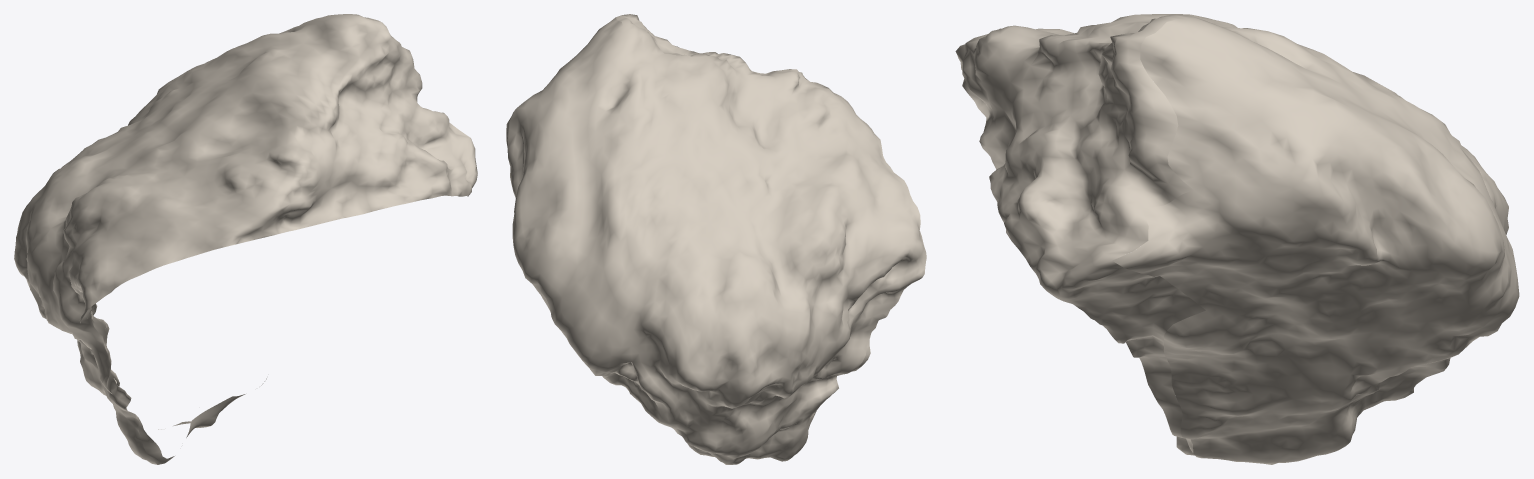
The model's file is gray-big-rock_cand02.glb.
The picture shows the model from 3 angles, left to right: view 1: azimuth 30°, elevation 25°; view 2: azimuth 150°, elevation 25°; view 3: azimuth 270°, elevation 25°; orthographic projection. The views are drawn at different scales.
Visible parts, largest first — view 1: world; view 2: world; view 3: world.
Part boxes in pixels (x1,y1,x2,y2): world: (14,14,477,464); world: (506,14,926,464); world: (955,14,1519,464).
Bounding box in the file's own units: 1.71 × 1.7 × 1.54.
